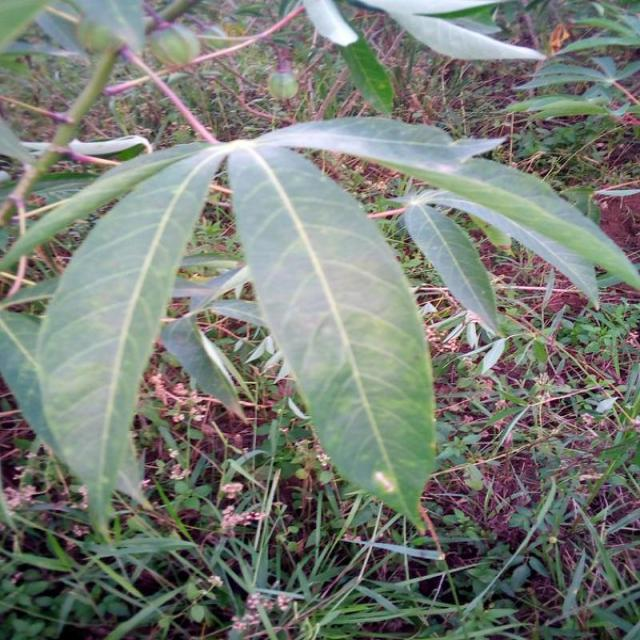cassava leaf: (3, 113, 638, 543), (226, 141, 438, 533), (32, 139, 226, 536)
